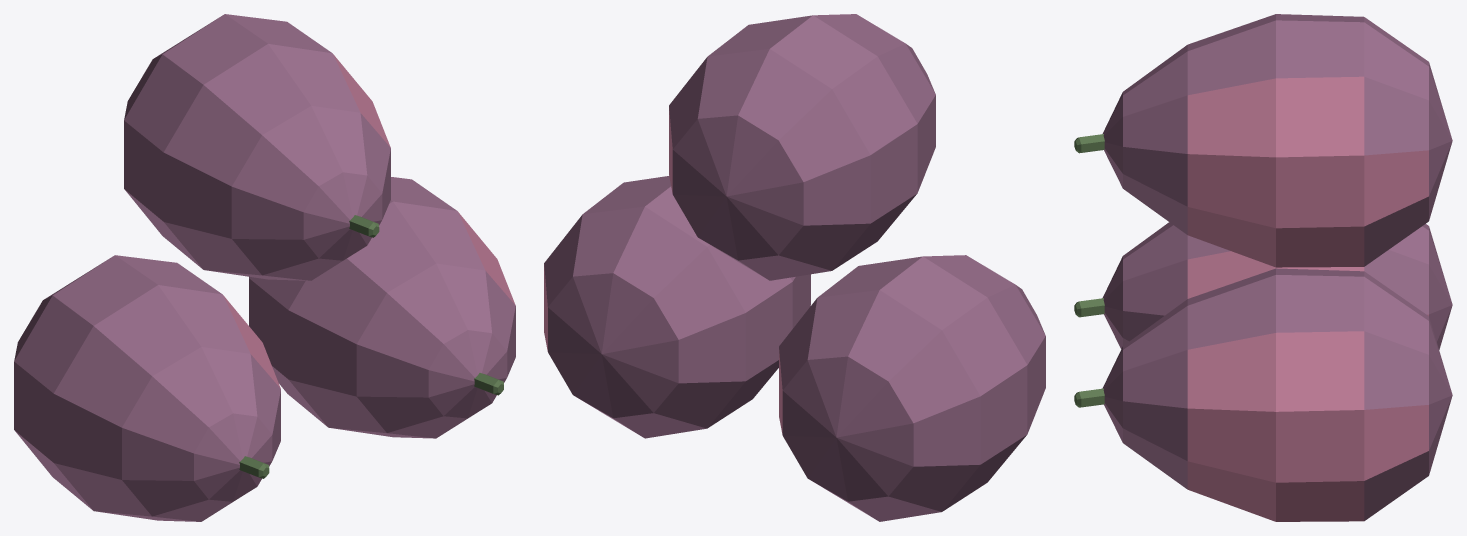
File: figs.glb
3 views of the same model, side by side, from view 1: azimuth 30°, elevation 25°; view 2: azimuth 150°, elevation 25°; view 3: azimuth 270°, elevation 25° (orthographic). The views are drawn at different scales.
Parts seen in each view (by area): view 1: figs; view 2: figs; view 3: figs.
Boxes of the visible parts, bbox=[...] form: figs: bbox=[14, 14, 515, 521]; figs: bbox=[544, 14, 1045, 521]; figs: bbox=[1074, 14, 1452, 521].
Bounding box in the file's own units: 0.0888 × 0.0861 × 0.0642.
